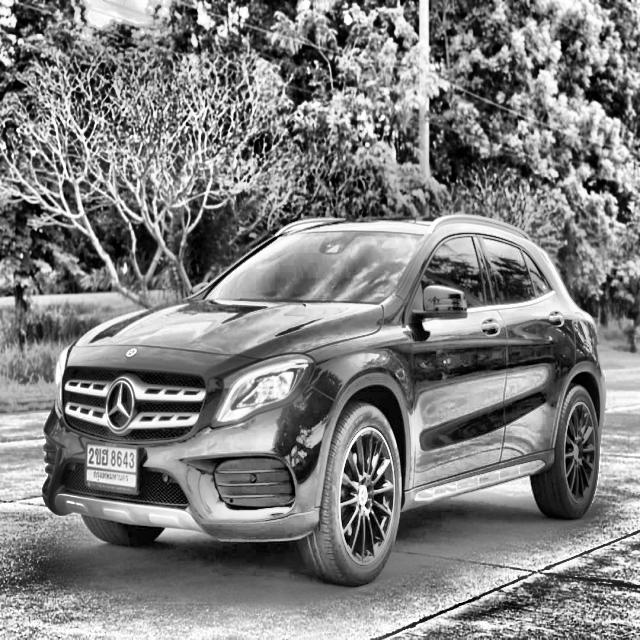license-plate: (85, 434, 142, 493)
